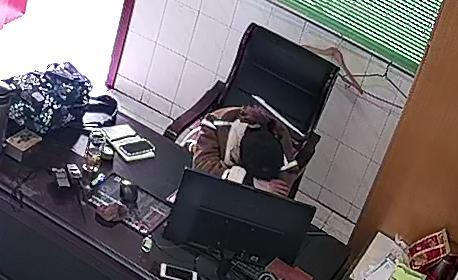sleep: (184, 105, 312, 201)
